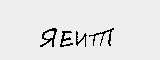Е: (59, 28, 75, 49)
И: (73, 26, 88, 51)
П: (100, 26, 117, 50)
Т: (87, 30, 100, 50)
Я: (38, 24, 58, 51)
